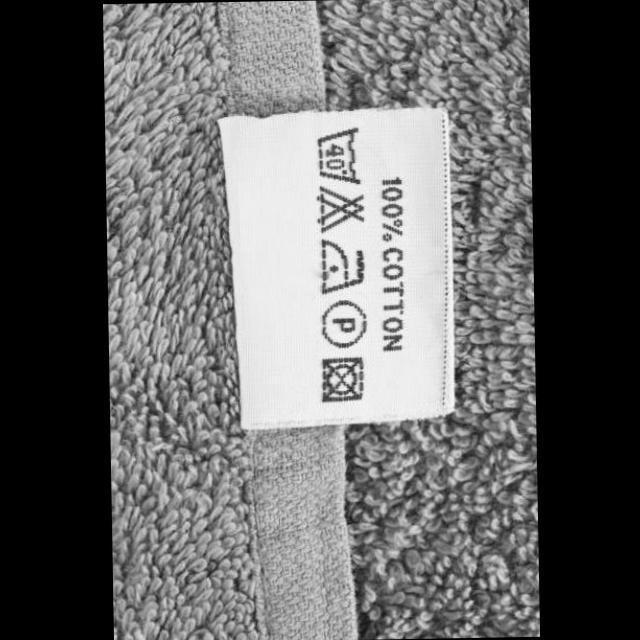40C: (312, 122, 362, 188)
DN_bleach: (313, 182, 367, 235)
DN_tumble_dry: (314, 353, 366, 406)
iron_low: (315, 235, 367, 298)
normal_dry_clean_solvents: (316, 295, 370, 350)
